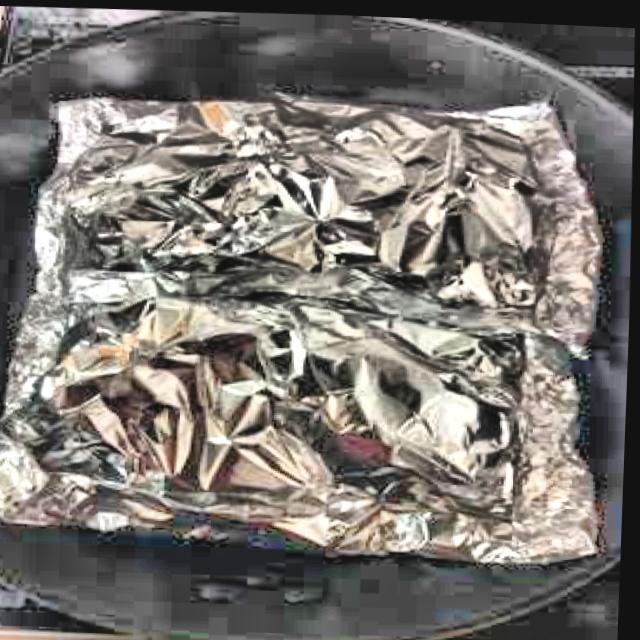Foil: (0, 44, 639, 590)
